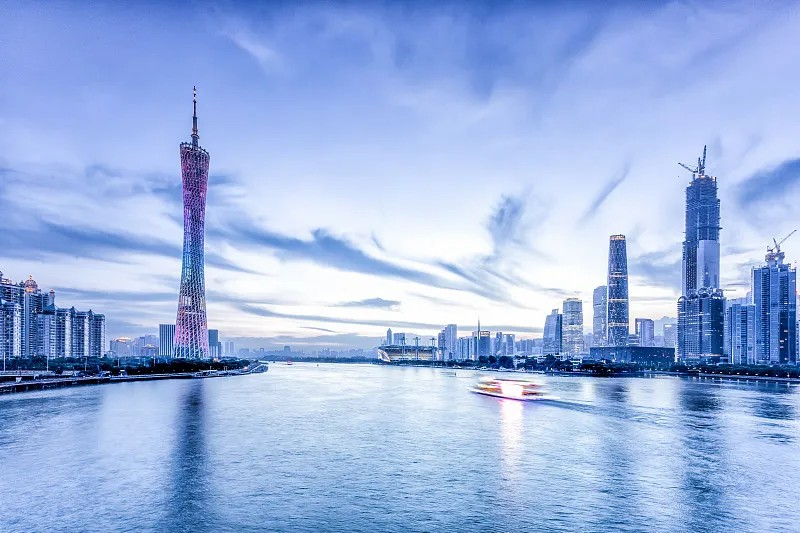Canton: (172, 84, 212, 362)
